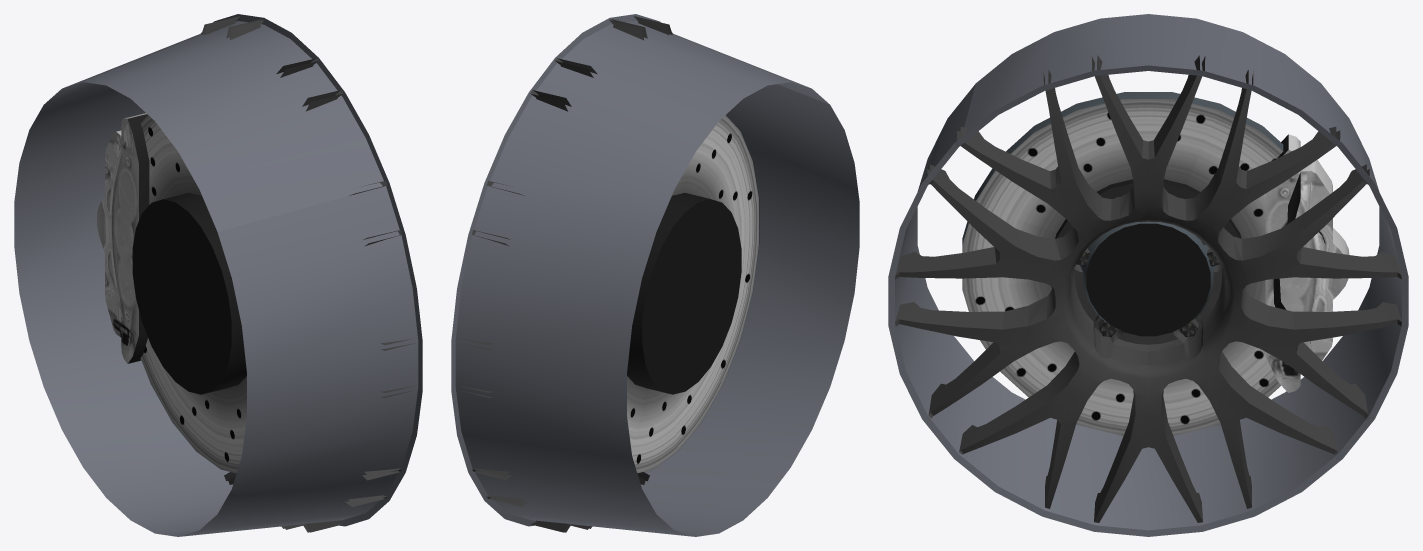
3 views of the same model, side by side, from view 1: azimuth 30°, elevation 25°; view 2: azimuth 150°, elevation 25°; view 3: azimuth 270°, elevation 25° (orthographic).
Visible parts, largest first — view 1: 140, BrakeDisc, Caliper; view 2: 140, BrakeDisc; view 3: 140, BrakeDisc, Caliper.
Boxes of the visible parts, left/top/right/bottom form: 140: left=14, top=14, right=422, bottom=536; BrakeDisc: left=132, top=115, right=246, bottom=473; Caliper: left=97, top=113, right=149, bottom=363; 140: left=451, top=14, right=859, bottom=536; BrakeDisc: left=627, top=115, right=759, bottom=473; 140: left=888, top=14, right=1408, bottom=536; BrakeDisc: left=962, top=92, right=1283, bottom=435; Caliper: left=1265, top=134, right=1349, bottom=392.
Bounding box in the file's own units: 0.1953 × 0.5345 × 0.5345.
